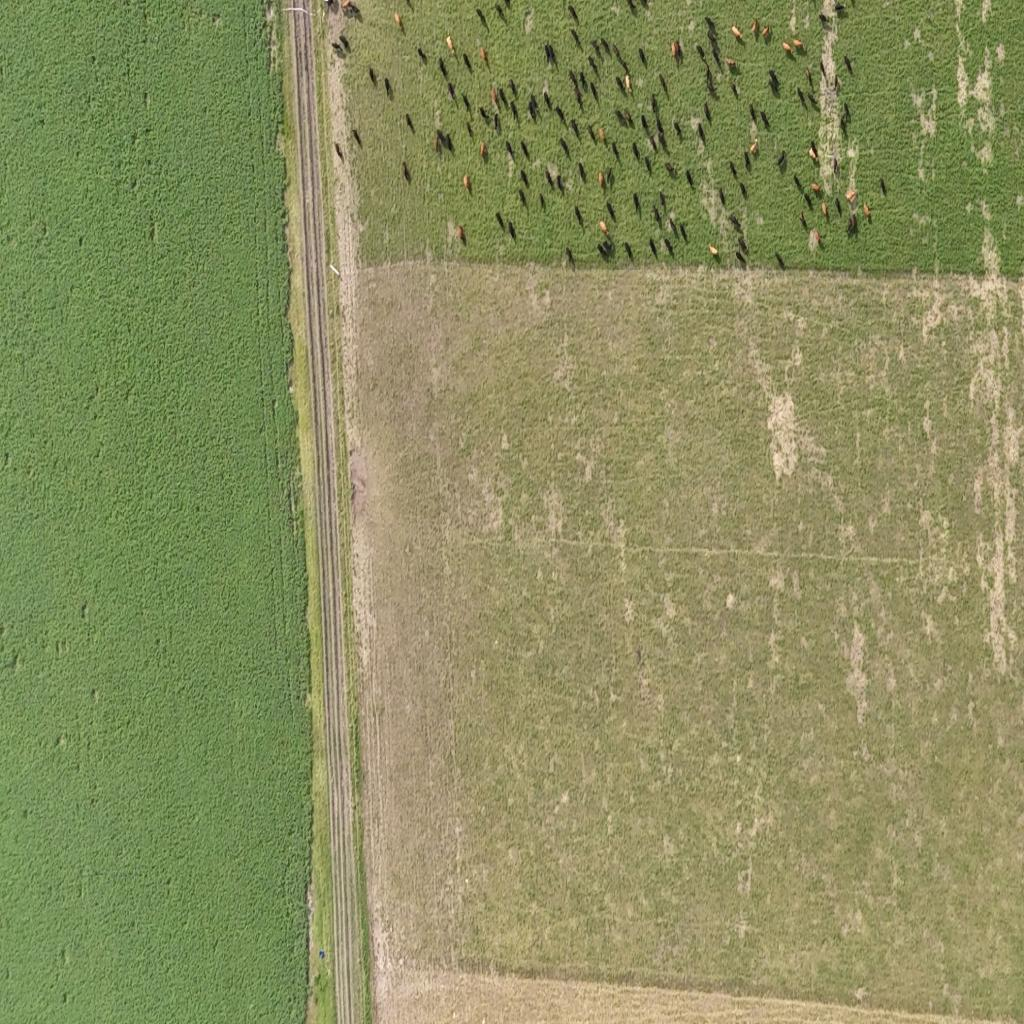cow: (570, 71, 582, 106), (340, 0, 360, 20), (615, 107, 632, 130), (438, 130, 454, 154), (705, 67, 718, 96), (768, 68, 780, 98), (570, 27, 583, 52), (611, 41, 623, 68), (651, 94, 661, 126), (588, 54, 600, 80), (846, 212, 858, 237), (476, 7, 488, 31), (567, 3, 579, 27), (759, 107, 771, 131), (496, 210, 507, 236), (331, 41, 346, 60), (494, 0, 506, 23), (555, 104, 567, 127), (658, 72, 668, 99), (589, 78, 599, 105), (616, 75, 627, 99), (600, 36, 612, 58), (729, 213, 742, 233), (705, 15, 718, 35), (642, 112, 652, 138), (666, 216, 677, 239), (697, 122, 706, 150), (696, 41, 708, 62), (510, 96, 519, 124), (566, 246, 576, 270), (776, 150, 787, 171), (797, 87, 807, 110), (665, 161, 677, 180), (590, 39, 602, 58), (703, 100, 712, 125), (499, 87, 508, 112), (844, 54, 854, 76), (520, 139, 530, 161), (560, 136, 570, 158), (570, 120, 580, 142), (774, 252, 786, 270), (575, 204, 584, 228), (731, 24, 743, 42), (679, 221, 688, 245), (638, 46, 647, 70), (749, 101, 758, 125), (632, 140, 641, 164), (543, 88, 552, 112), (794, 173, 804, 194), (339, 34, 350, 53), (480, 106, 491, 125), (633, 192, 641, 218), (527, 6, 535, 32), (653, 203, 662, 226), (610, 140, 619, 163), (658, 127, 667, 150), (549, 43, 558, 66), (624, 242, 634, 262), (739, 236, 749, 256), (649, 134, 659, 154), (730, 80, 740, 100), (664, 236, 674, 256), (735, 249, 746, 267), (439, 58, 448, 80), (607, 202, 616, 224), (578, 161, 587, 183), (673, 118, 682, 140), (587, 123, 596, 145), (324, 0, 337, 15), (417, 47, 427, 66), (808, 145, 818, 164), (530, 91, 540, 110), (352, 127, 361, 148), (649, 238, 658, 259), (479, 46, 488, 67), (718, 188, 727, 209), (805, 191, 814, 212), (626, 0, 637, 17), (834, 73, 842, 96), (659, 190, 667, 213), (818, 11, 830, 26), (834, 1, 846, 16), (463, 52, 472, 72), (729, 160, 738, 180), (447, 81, 456, 101), (739, 181, 748, 201), (462, 93, 471, 113), (712, 48, 722, 66), (509, 78, 518, 98), (842, 100, 852, 118), (706, 29, 718, 44), (384, 77, 392, 99), (402, 160, 410, 182), (508, 220, 516, 242), (518, 188, 526, 210), (557, 174, 565, 196), (686, 168, 694, 190), (546, 167, 554, 189), (640, 0, 651, 16), (676, 36, 684, 58), (598, 219, 608, 236), (820, 58, 827, 82), (644, 156, 652, 177), (394, 12, 403, 30), (744, 150, 751, 173), (334, 143, 342, 163), (406, 113, 414, 133), (624, 74, 632, 94), (458, 224, 466, 244), (466, 120, 474, 140), (521, 168, 529, 188), (506, 140, 514, 160), (528, 102, 536, 122), (544, 42, 550, 68), (792, 38, 804, 51), (670, 40, 677, 62), (491, 85, 498, 107), (806, 67, 813, 89), (808, 90, 819, 104), (606, 170, 614, 189), (846, 188, 856, 203), (598, 242, 606, 260), (799, 211, 807, 229), (863, 202, 871, 220), (446, 34, 454, 52), (494, 111, 500, 135), (601, 239, 612, 252), (369, 66, 376, 86), (832, 156, 839, 176), (538, 192, 545, 212), (749, 140, 758, 155), (463, 173, 470, 192), (708, 244, 718, 257), (782, 41, 792, 54), (402, 1, 412, 14), (598, 126, 606, 142), (840, 116, 847, 134), (761, 25, 770, 39), (880, 176, 886, 196), (598, 170, 604, 190), (836, 197, 842, 217), (480, 142, 486, 161), (752, 17, 758, 36), (814, 230, 821, 246), (818, 232, 826, 246), (811, 182, 821, 193), (726, 57, 736, 68), (822, 200, 828, 216), (435, 134, 439, 155), (846, 0, 855, 9)
